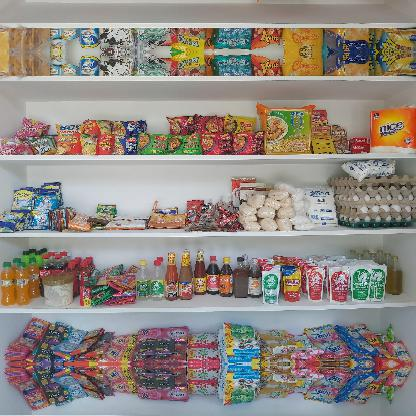Lady-s-Choice: (42, 273, 74, 307)
